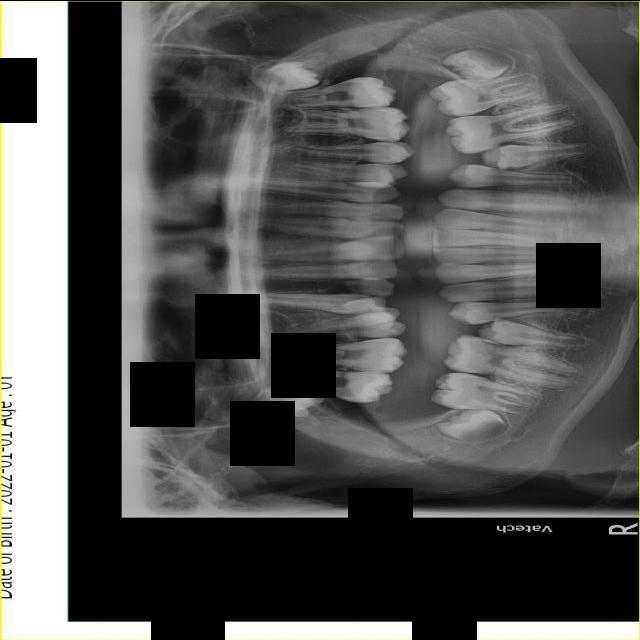Sterngold Implant: (499, 162, 522, 170), (367, 290, 381, 297)
